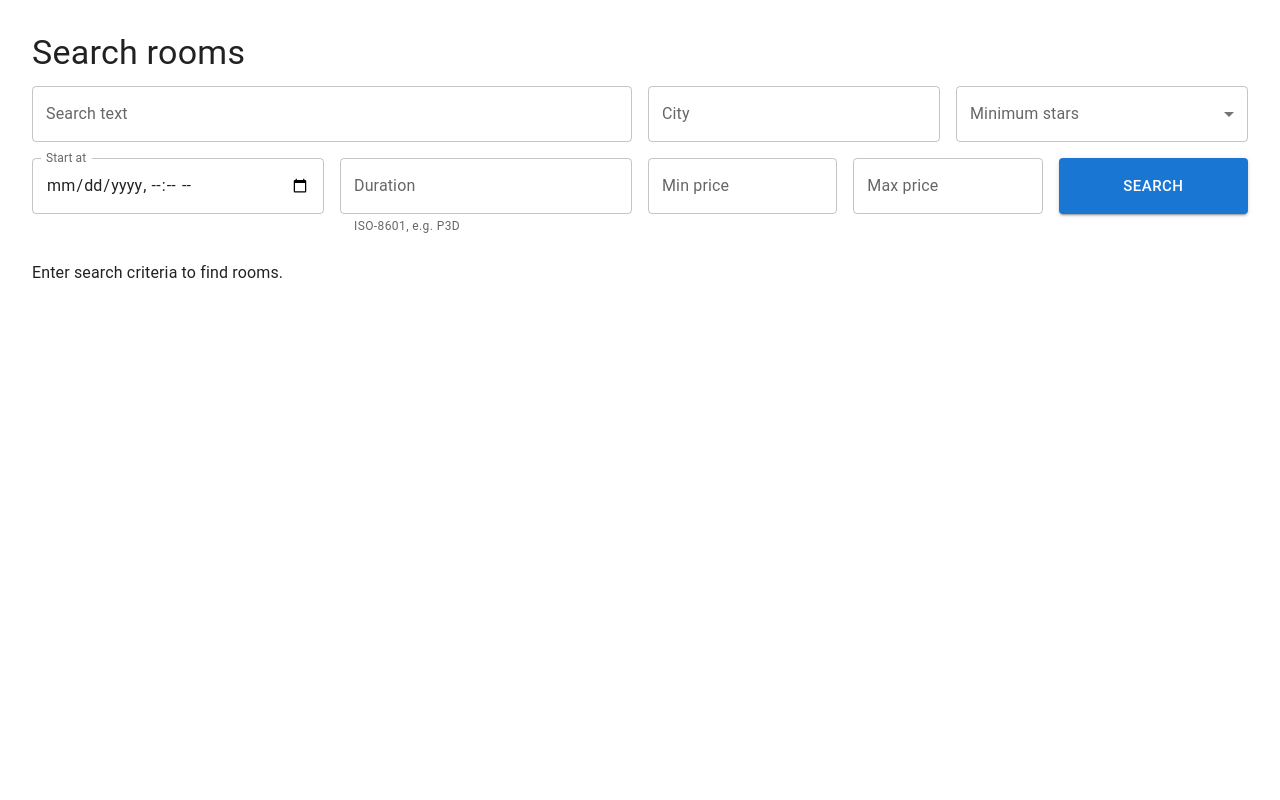
Test: SearchRoomsScreen › shows the returned rooms without filtering them again on the client
Type "Cairo" into the field labelled "City".
click(794, 114); type("Cairo")  # box [648,86,940,142]
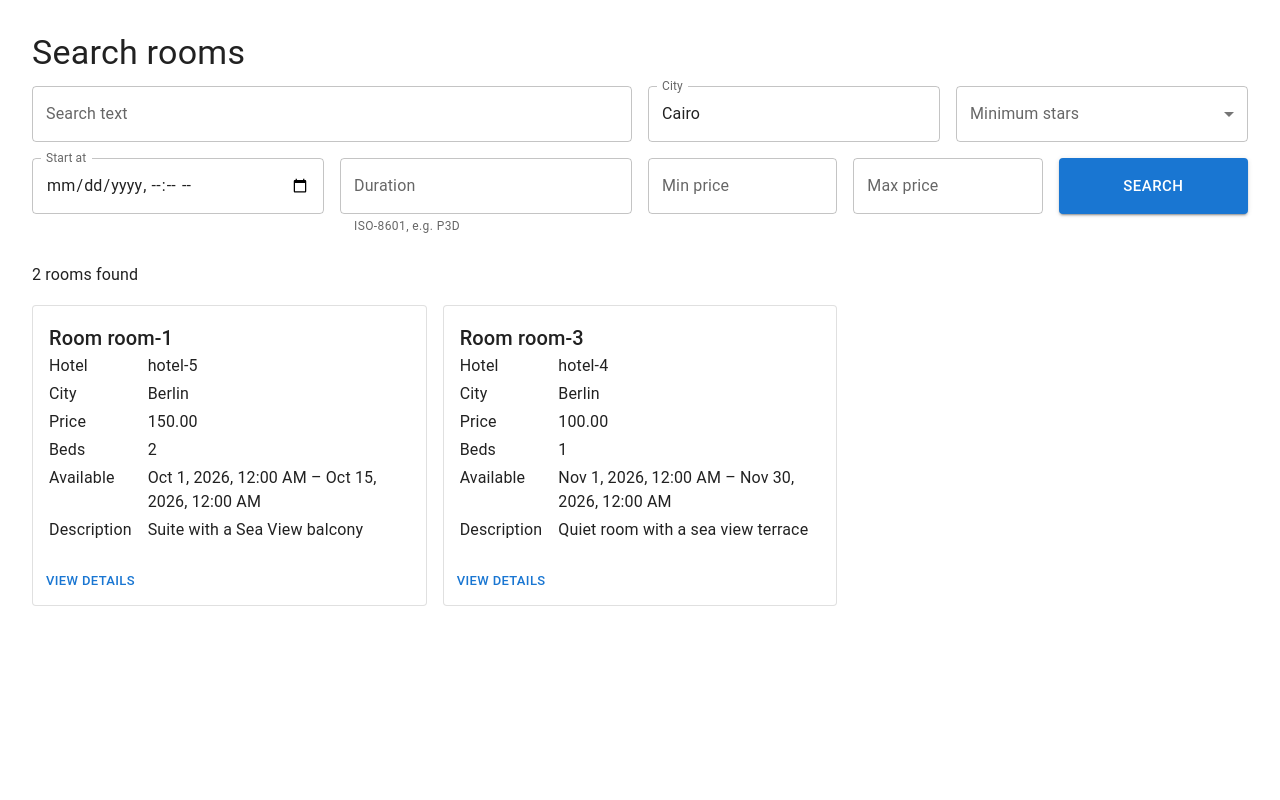
Expected: the text "2 rooms found" is shown, [32,265,138,284]
Expected: the text "Berlin" is shown 2 times, [148,384,189,403]; [558,384,600,403]
